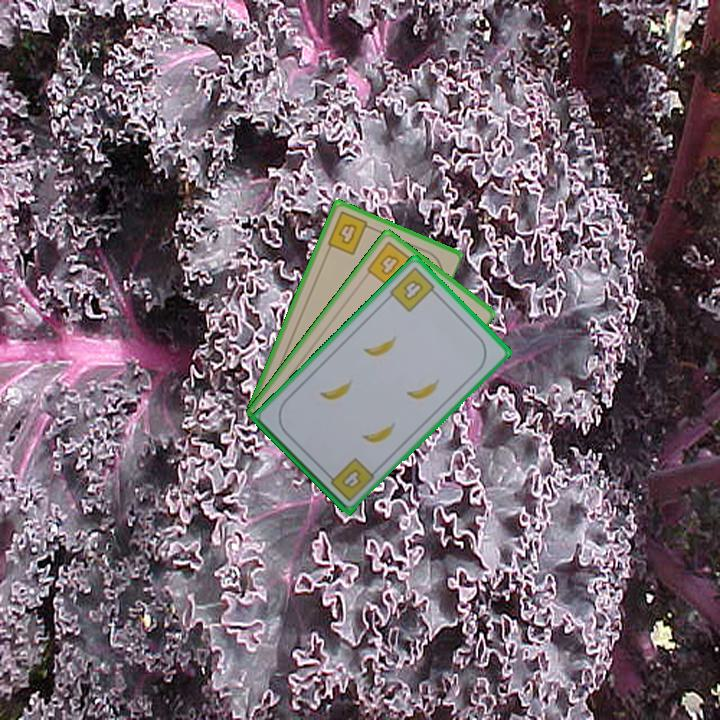4b: (386, 263, 442, 315), (363, 238, 418, 289), (322, 454, 377, 504), (323, 208, 376, 258)
